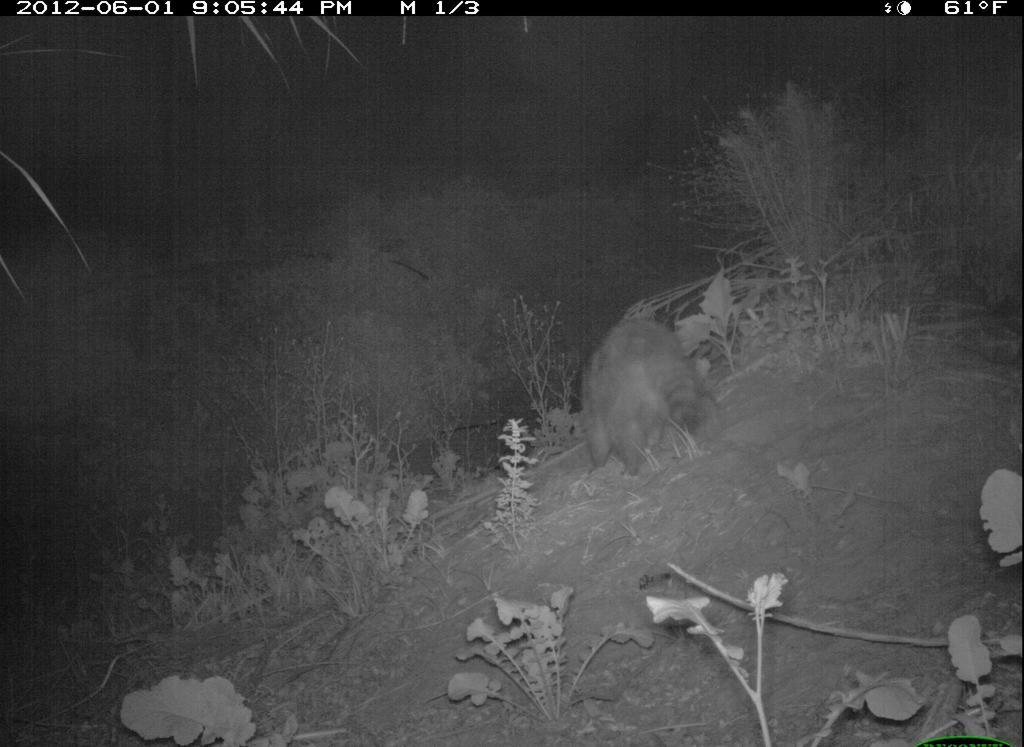raccoon: (574, 314, 711, 478)
